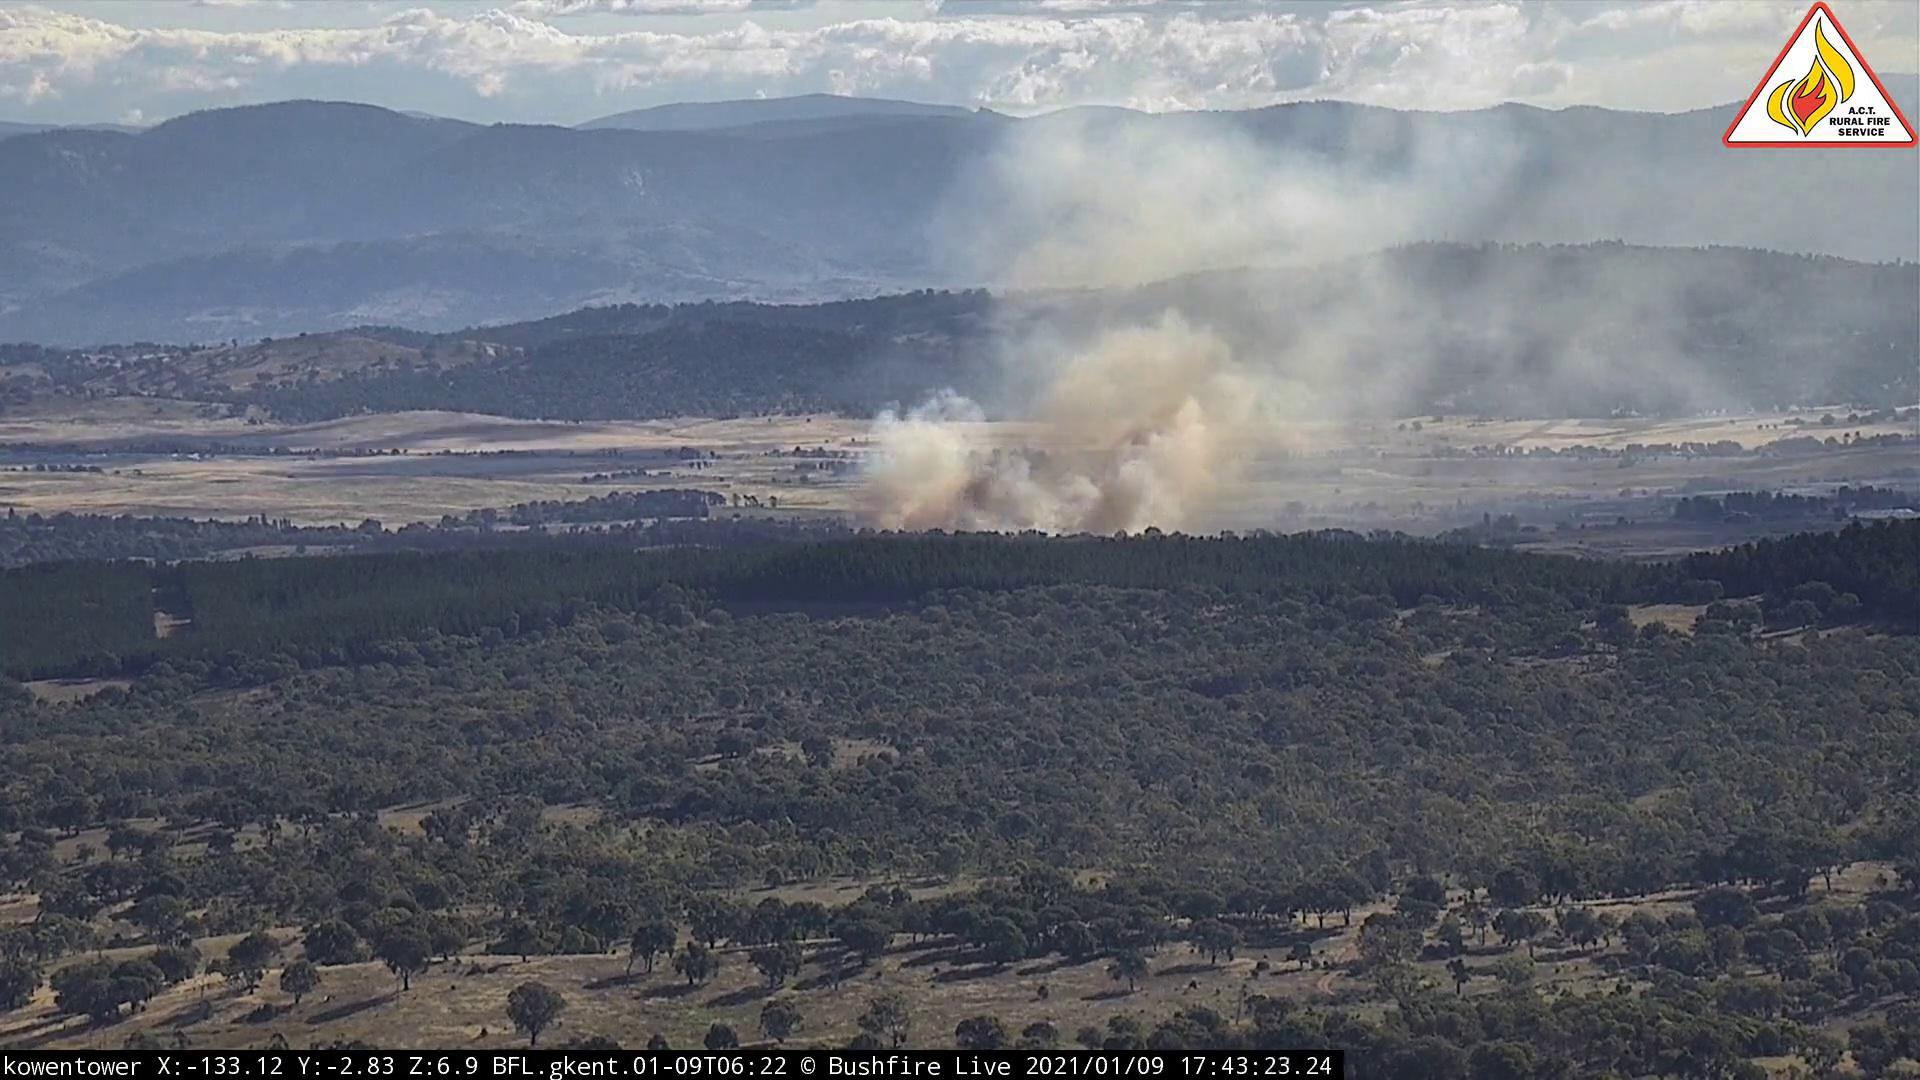Smoke: (833, 59, 1721, 546)
